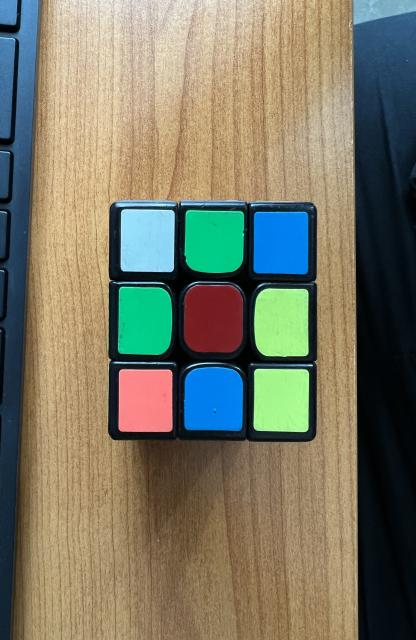Blue: (184, 368, 244, 431), (254, 211, 309, 275)
Green: (184, 210, 244, 274), (118, 286, 172, 355)
Orange: (118, 369, 172, 432)
Red: (184, 285, 244, 352)
White: (120, 209, 176, 272)
Yellow: (255, 289, 309, 356), (254, 369, 309, 432)
